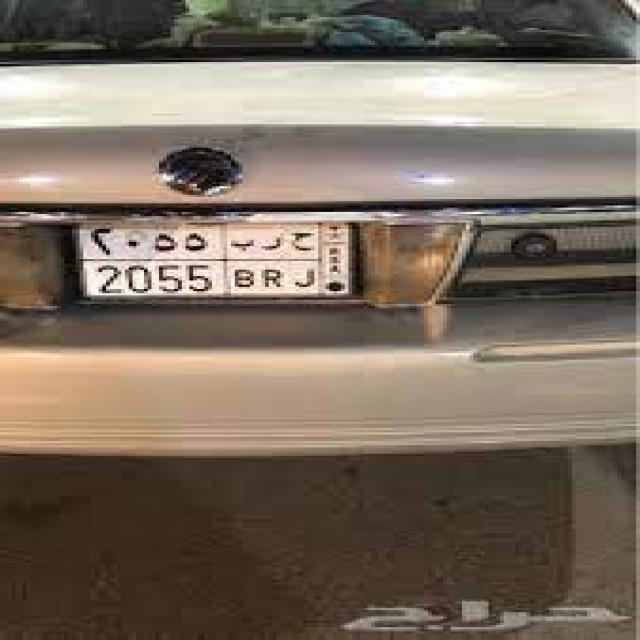license_plate: (72, 220, 367, 304)
